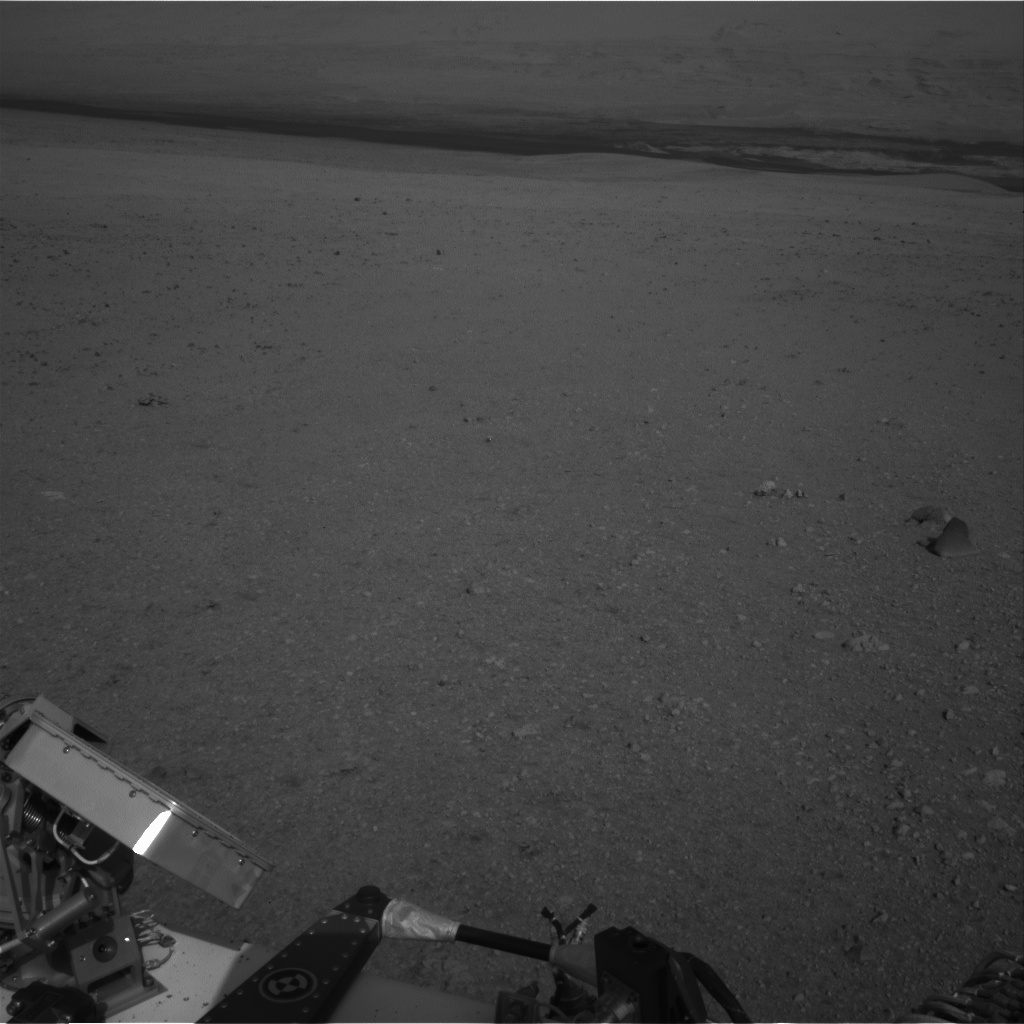soil: (5, 231, 1021, 971)
